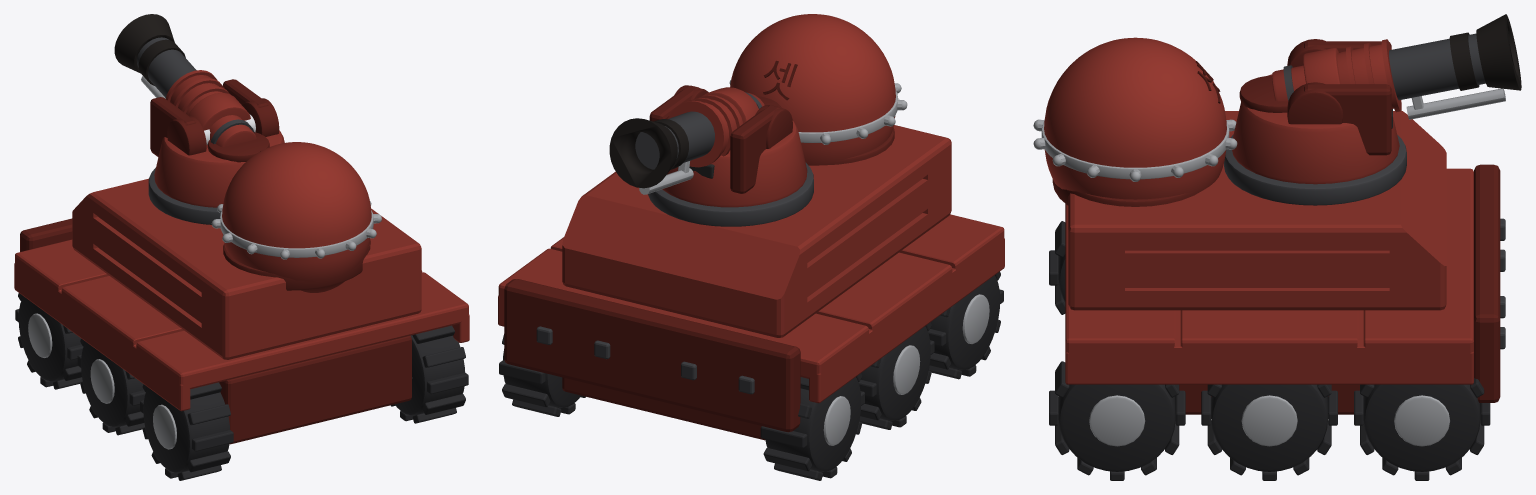
File: set.glb
3 views of the same model, side by side, from view 1: azimuth 30°, elevation 25°; view 2: azimuth 150°, elevation 25°; view 3: azimuth 270°, elevation 25° (orthographic). The views are drawn at different scales.
Visible parts, largest first — view 1: SET_Hull, SET_Deck, CORE_set_Shell, SET_Frame, SET_Turret, SET_Wheel_P2, SET_Wheel_L2, SET_Flamer, SET_Wheel_P1, SET_Wheel_P0, SET_FlamerMuzzle, SET_Bumper (+1 smaller); view 2: SET_Hull, SET_Bumper, SET_Deck, CORE_set_Shell, SET_Turret, SET_Wheel_P0, SET_Flamer, SET_Wheel_P1, SET_Wheel_P2, SET_FlamerMuzzle, SET_Frame, SET_Wheel_L0; view 3: SET_Hull, SET_Deck, CORE_set_Shell, SET_Turret, SET_Wheel_L2, SET_Wheel_L1, SET_Wheel_L0, SET_Flamer, SET_Bumper, SET_FlamerMuzzle, SET_Frame, SET_Wheel_P2 (+1 smaller).
Part boxes in pixels (bbox=[...]): SET_Hull: bbox=[72, 167, 421, 359]; SET_Deck: bbox=[14, 239, 469, 411]; CORE_set_Shell: bbox=[211, 142, 381, 292]; SET_Frame: bbox=[219, 335, 411, 444]; SET_Turret: bbox=[150, 79, 284, 207]; SET_Wheel_P2: bbox=[140, 382, 233, 480]; SET_Wheel_L2: bbox=[390, 325, 468, 423]; SET_Flamer: bbox=[136, 37, 250, 130]; SET_Wheel_P1: bbox=[77, 338, 145, 435]; SET_Wheel_P0: bbox=[15, 293, 83, 389]; SET_FlamerMuzzle: bbox=[114, 14, 185, 85]; SET_Bumper: bbox=[20, 218, 72, 251]; SET_Hull: bbox=[562, 125, 951, 337]; SET_Bumper: bbox=[504, 279, 800, 432]; SET_Deck: bbox=[498, 214, 1004, 403]; CORE_set_Shell: bbox=[729, 14, 907, 165]; SET_Turret: bbox=[649, 85, 807, 207]; SET_Wheel_P0: bbox=[760, 373, 864, 480]; SET_Flamer: bbox=[635, 87, 758, 194]; SET_Wheel_P1: bbox=[858, 322, 934, 429]; SET_Wheel_P2: bbox=[928, 271, 1003, 379]; SET_FlamerMuzzle: bbox=[609, 118, 688, 188]; SET_Frame: bbox=[562, 377, 765, 440]; SET_Wheel_L0: bbox=[499, 334, 585, 416]; SET_Hull: bbox=[1052, 111, 1446, 310]; SET_Deck: bbox=[1065, 168, 1473, 384]; CORE_set_Shell: bbox=[1033, 37, 1237, 199]; SET_Turret: bbox=[1232, 39, 1399, 184]; SET_Wheel_L2: bbox=[1049, 361, 1185, 480]; SET_Wheel_L1: bbox=[1201, 384, 1337, 480]; SET_Wheel_L0: bbox=[1354, 378, 1490, 480]; SET_Flamer: bbox=[1303, 33, 1505, 119]; SET_Bumper: bbox=[1474, 164, 1505, 402]; SET_FlamerMuzzle: bbox=[1449, 14, 1521, 90]; SET_Frame: bbox=[1179, 384, 1359, 414]; SET_Wheel_P2: bbox=[1049, 221, 1065, 314].
Size of the model in its own units: 0.67 by 0.6916 by 0.8005.
